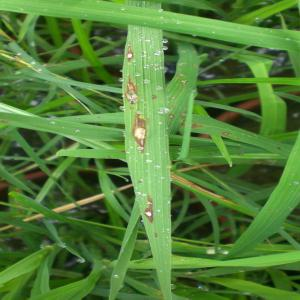Rice_Blast: (123, 74, 153, 110), (130, 108, 153, 148), (139, 195, 164, 231), (120, 39, 146, 71)
